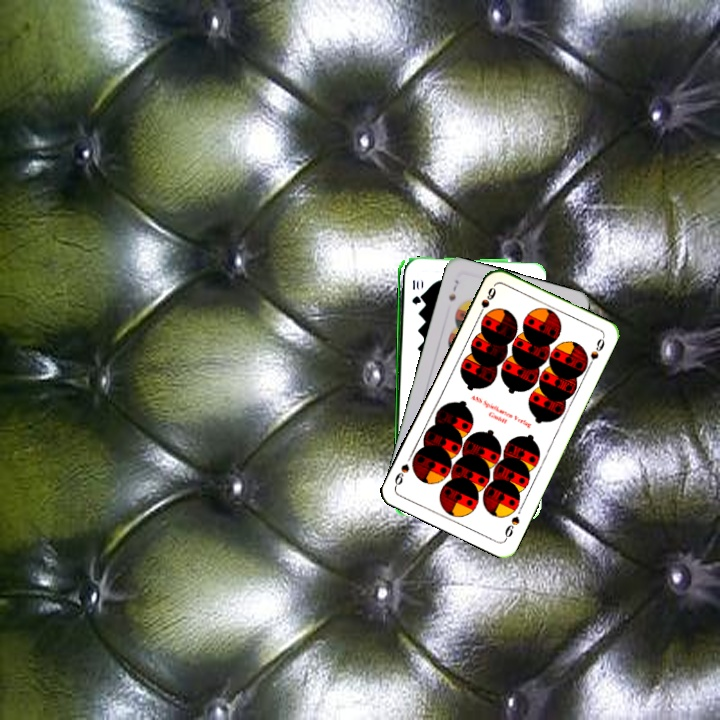G10: (408, 276, 420, 307)
S7: (444, 276, 461, 303)
S9: (474, 283, 499, 320), (501, 512, 522, 542)
